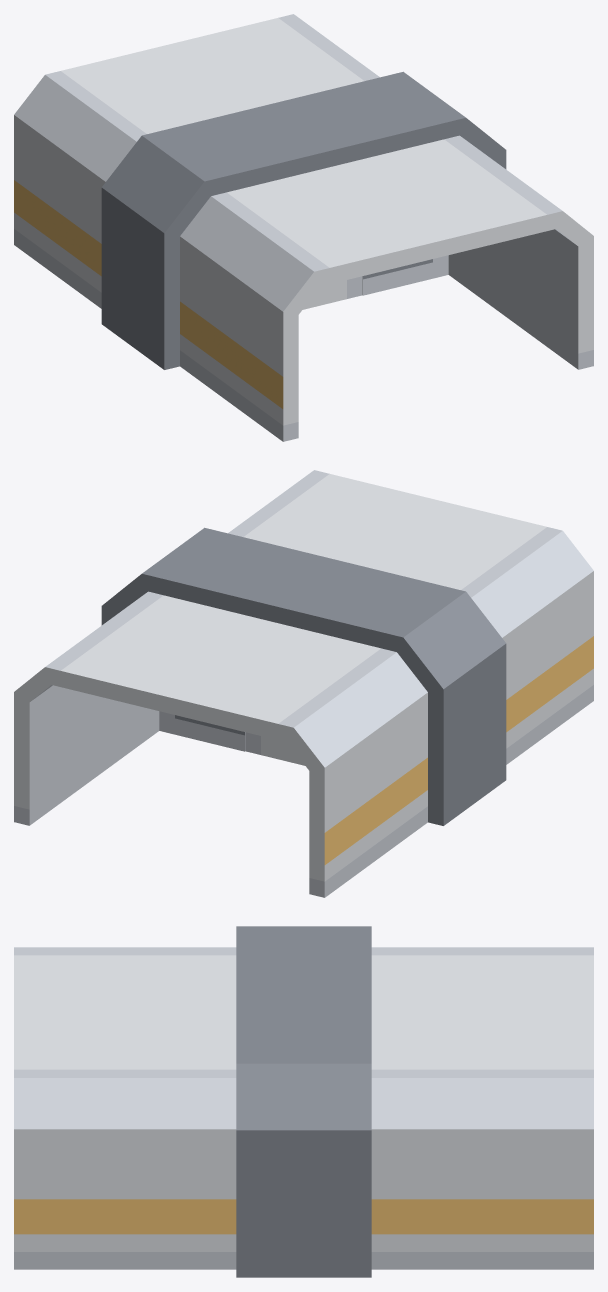
File: hangar_largeB.glb
3 renders of one model, top to bottom at view 1: azimuth 30°, elevation 25°; view 2: azimuth 150°, elevation 25°; view 3: azimuth 270°, elevation 25°, orthographic. The views are drawn at different scales.
Visible parts, largest first — view 1: hangar_largeB, hangar_largeB.003, hangar_largeB.002; view 2: hangar_largeB, hangar_largeB.002, hangar_largeB.003; view 3: hangar_largeB.
Boxes of the visible parts, x1,y1,x2,y2 form: hangar_largeB: (14,14,593,441); hangar_largeB.003: (362,255,448,295); hangar_largeB.002: (302,276,362,309); hangar_largeB: (14,470,593,897); hangar_largeB.002: (159,711,245,751); hangar_largeB.003: (245,732,305,765); hangar_largeB: (14,926,593,1277).
Size of the model in its own units: 6.6 by 3.3 by 9.
